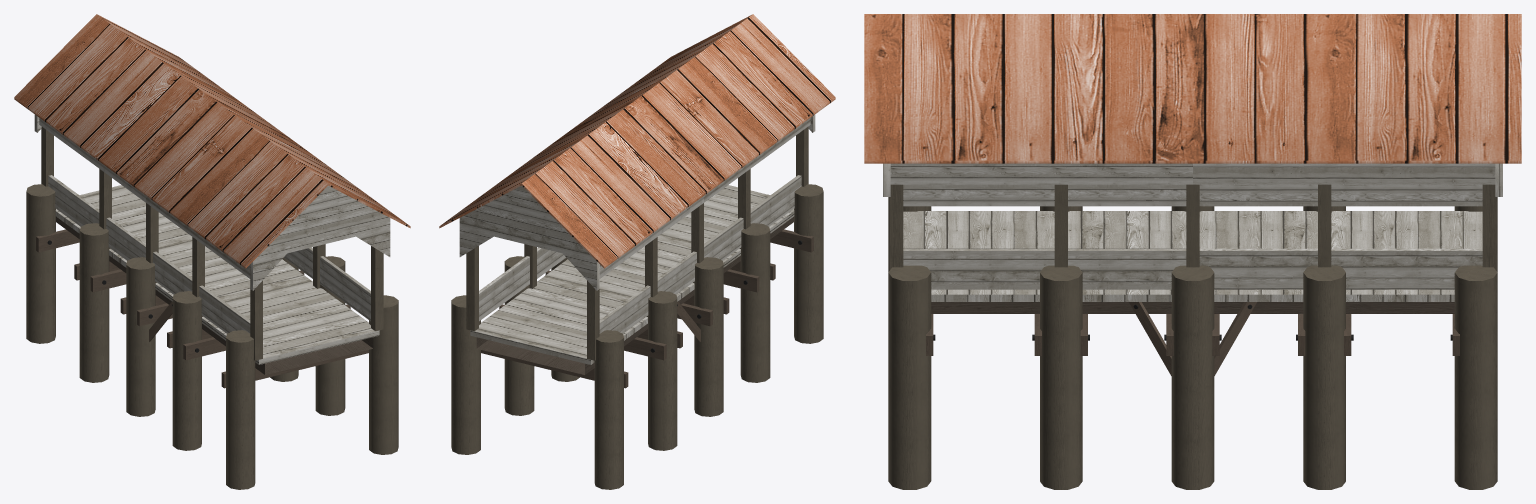
The model's file is Puente.obj.
The picture shows the model from 3 angles, left to right: view 1: azimuth 30°, elevation 25°; view 2: azimuth 150°, elevation 25°; view 3: azimuth 270°, elevation 25°; orthographic projection. The views are drawn at different scales.
Parts seen in each view (by area): view 1: Puente; view 2: Puente; view 3: Puente.
Part boxes in pixels (x1,y1,x2,y2): Puente: [14, 14, 410, 489]; Puente: [439, 14, 835, 489]; Puente: [864, 14, 1521, 489].
Bounding box in the file's own units: 4.18 × 7 × 9.98.
Materials: 6 (6 with a texture image).
